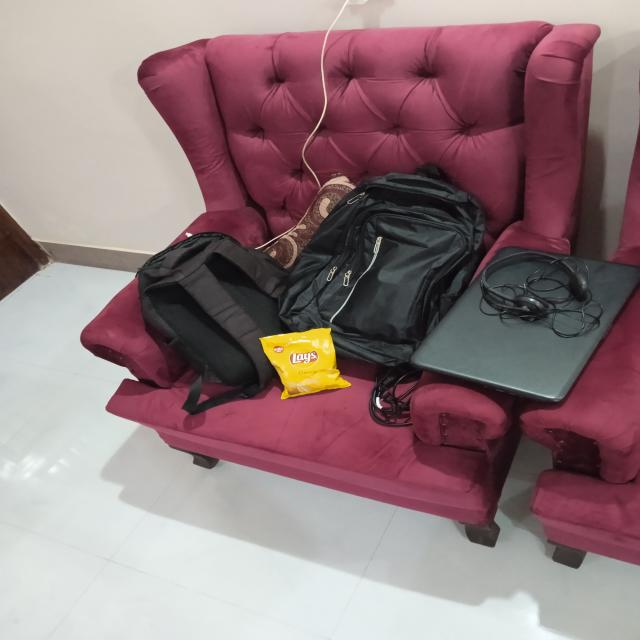Plastic: (258, 324, 352, 402)
